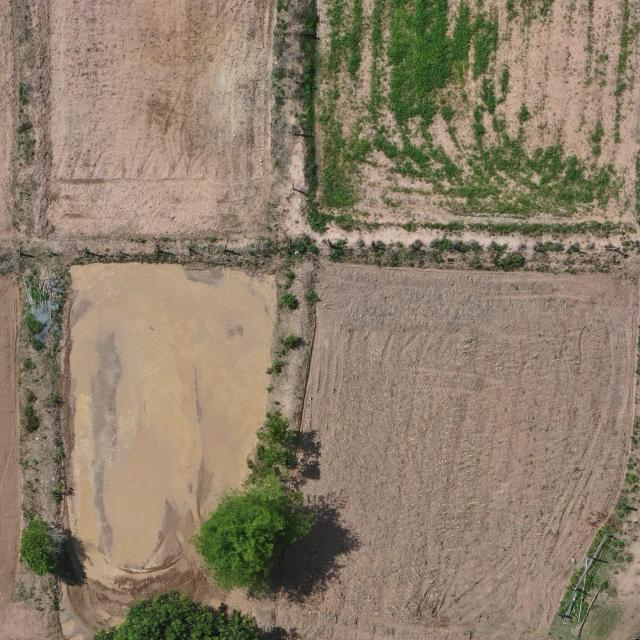Tree: (188, 474, 322, 603), (92, 587, 264, 640), (246, 409, 296, 486), (19, 518, 68, 578)
